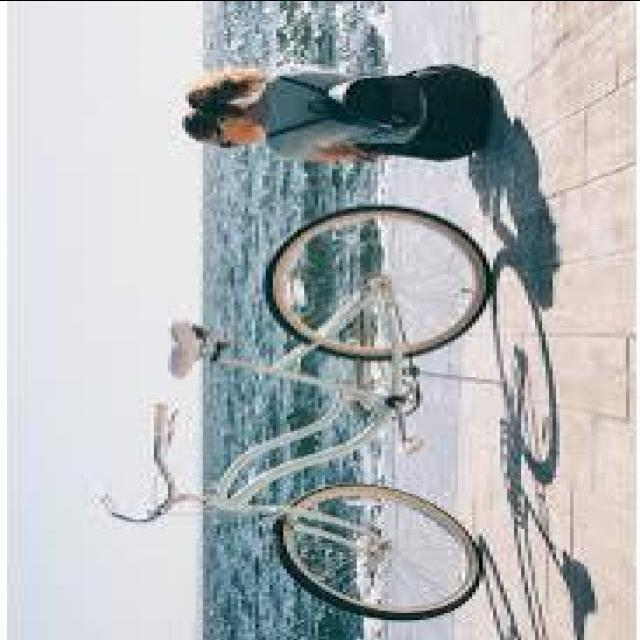bicycle: (96, 198, 522, 618)
